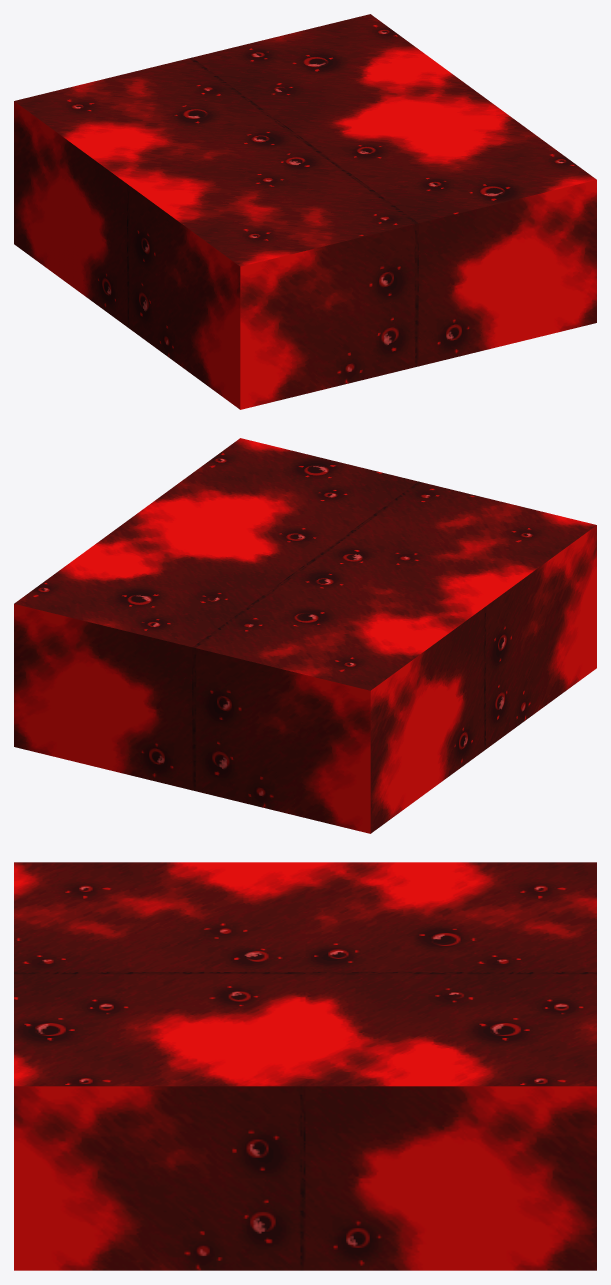
File: LavaHull.glb
3 views of the same model, one above another, from view 1: azimuth 30°, elevation 25°; view 2: azimuth 150°, elevation 25°; view 3: azimuth 270°, elevation 25° (orthographic). The views are drawn at different scales.
Visible parts, largest first — view 1: LavaHull; view 2: LavaHull; view 3: LavaHull.
Part boxes in pixels (left/top/right/bottom): LavaHull: left=14, top=14, right=596, bottom=409; LavaHull: left=14, top=438, right=596, bottom=833; LavaHull: left=14, top=862, right=596, bottom=1270.
Bounding box in the file's own units: 2982 × 1144 × 3280.
1 material, 1 textured.
